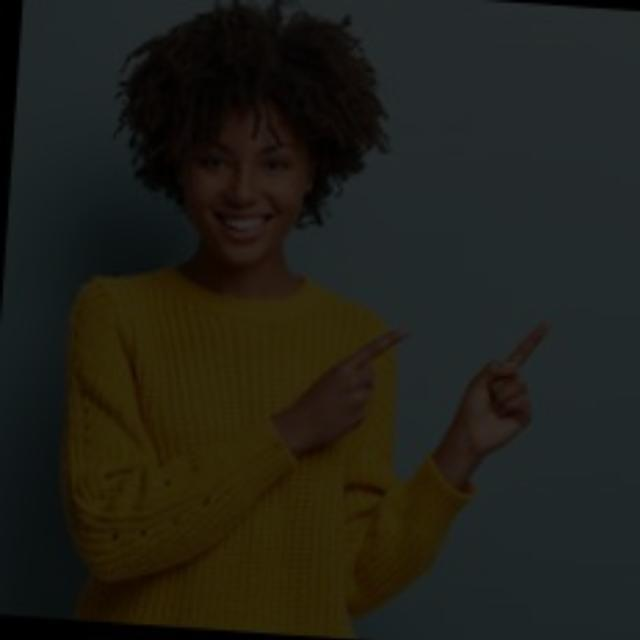Happy: (146, 55, 333, 259)
